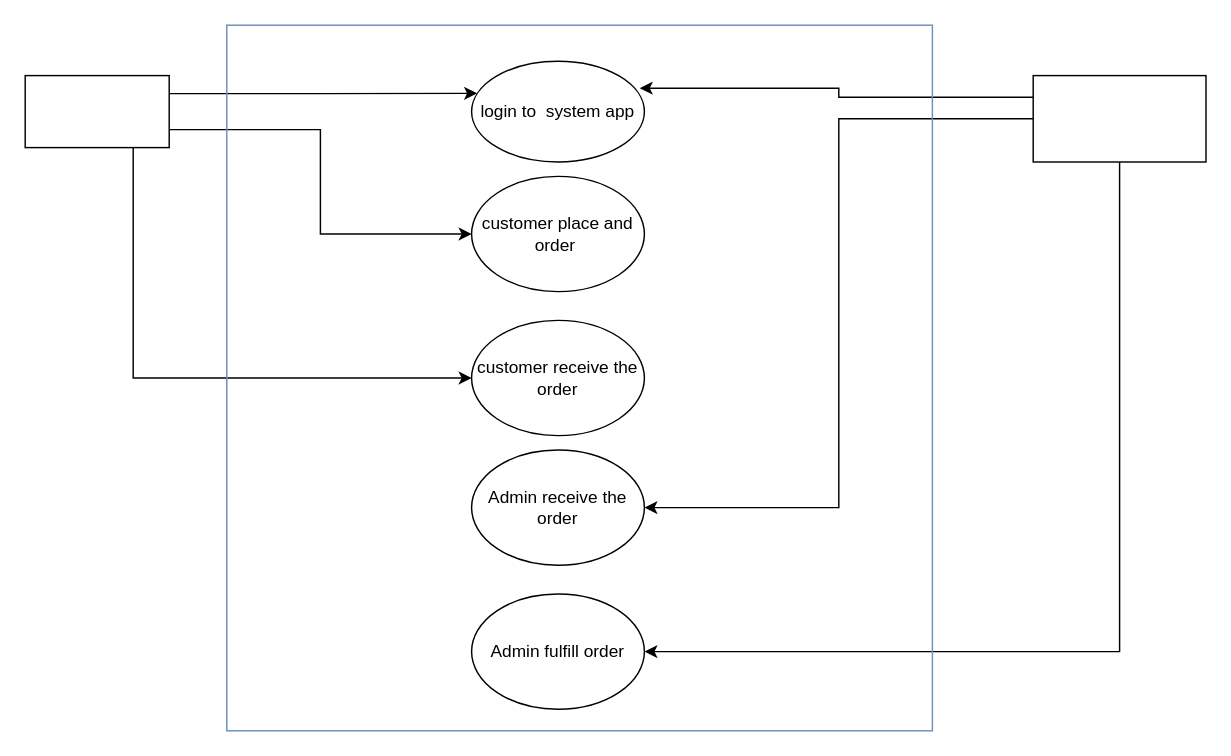
The diagram is 1231 pixels wide and 756 high, and some of its shapes have lost their labels. The box of each missing label's shape, as (x1, y1, x2, y2) in pixels:
Admin: (1032, 74, 1206, 162)
customer: (24, 74, 169, 148)
